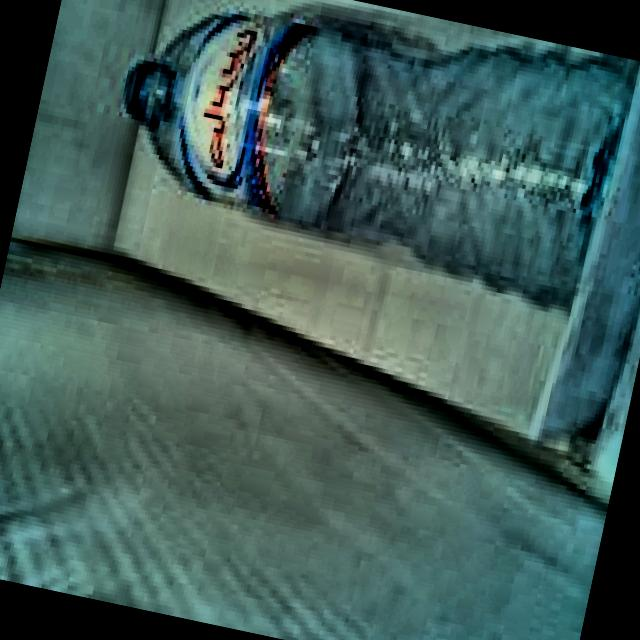plastic bottle: (126, 13, 630, 308)
